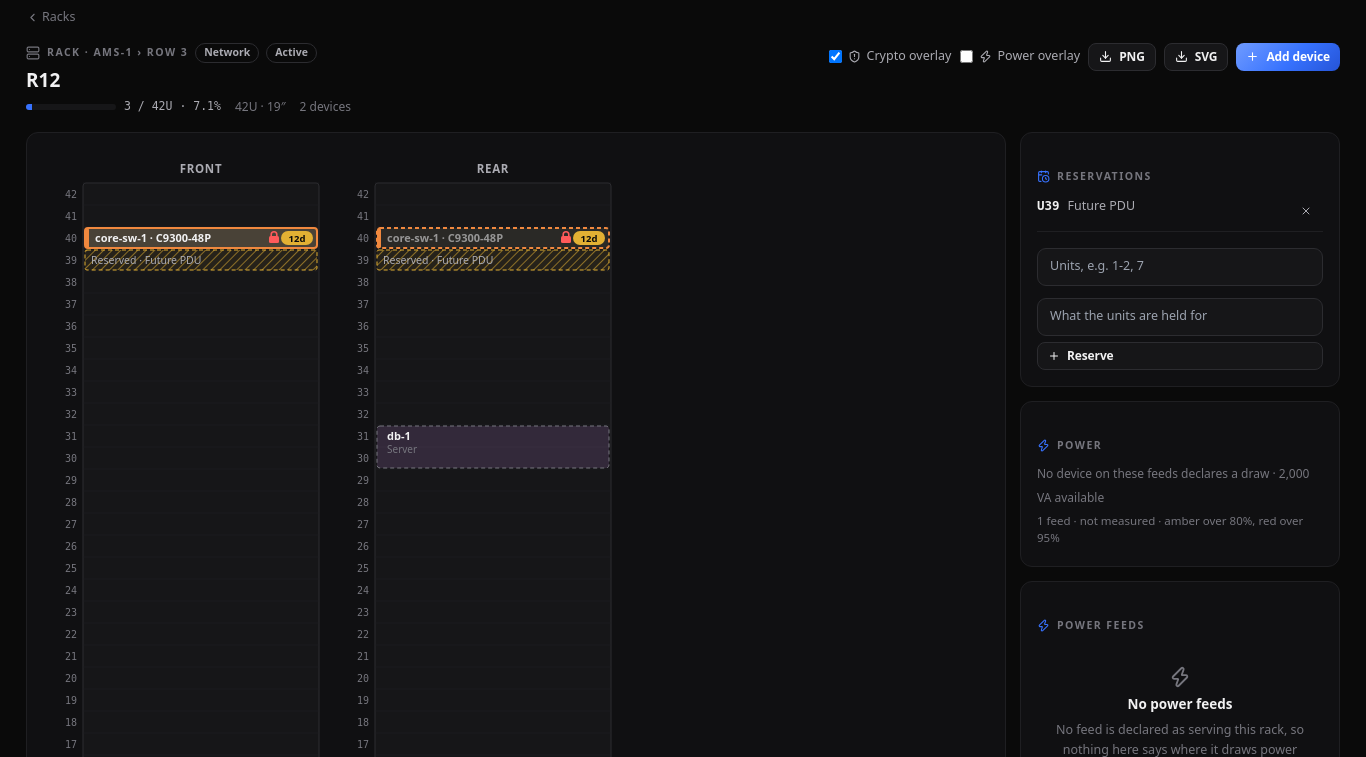
Scenario: power overlay (row 6.2) › tints each device by its share of the rack's available power; an undeclared draw is dashed, never 0 W; the crypto overlay goes off
Click the checkbox named "Power overlay". click: (966, 57)
box: [960,50,972,63]
(page scrolled)
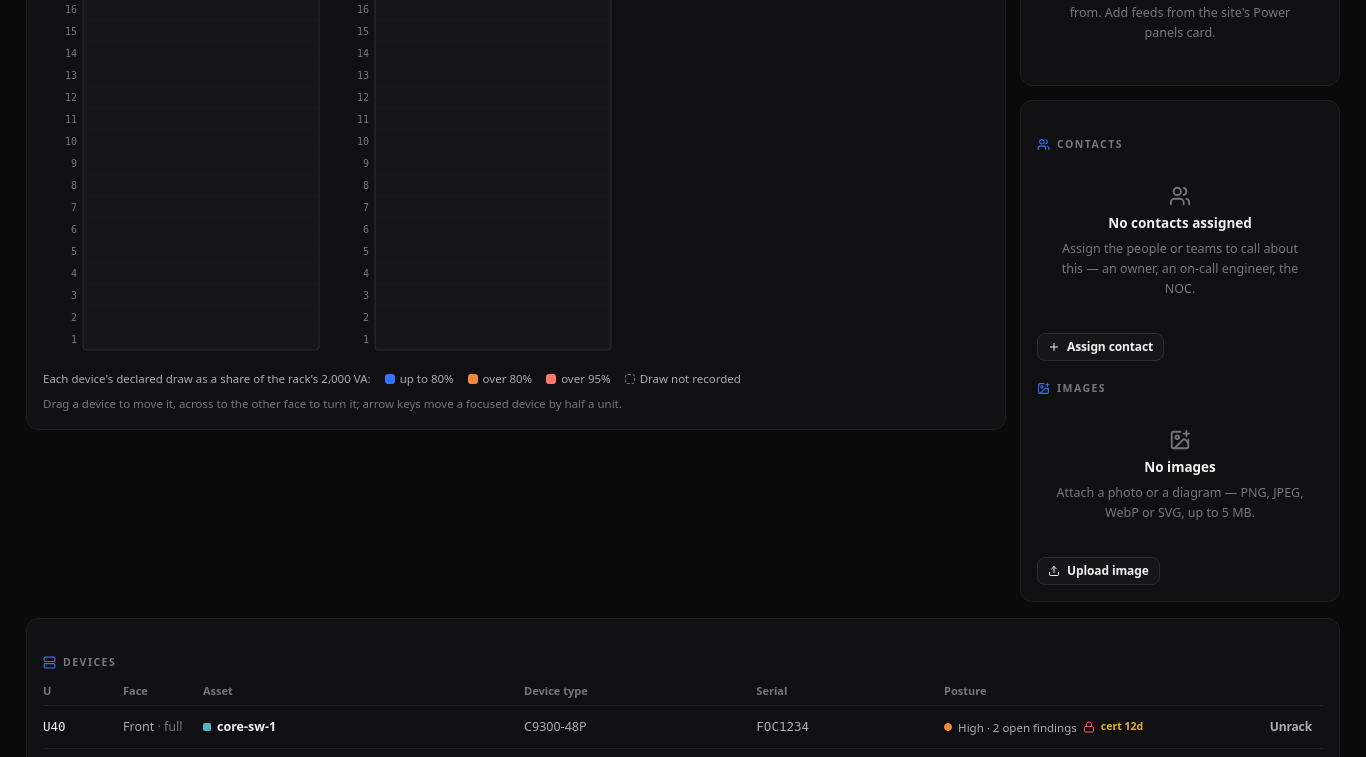
Expected: the element with test id "power-overlay-legend" shows "2,000 VA", [321,371,368,386]
